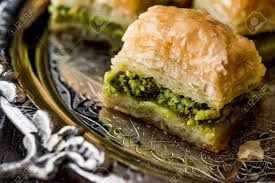baklava: (102, 5, 265, 150), (49, 0, 168, 49), (193, 0, 274, 35)
